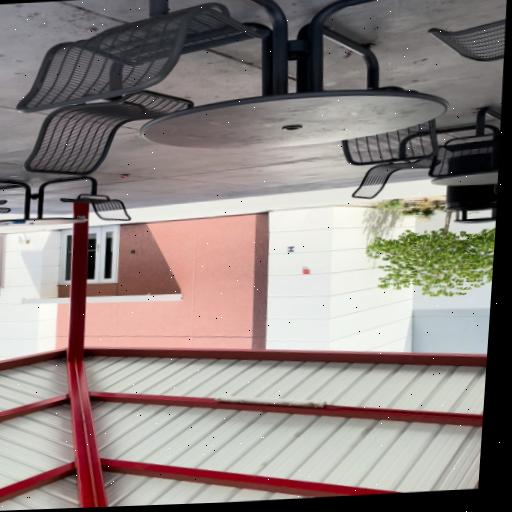target2: (285, 246, 296, 252)
